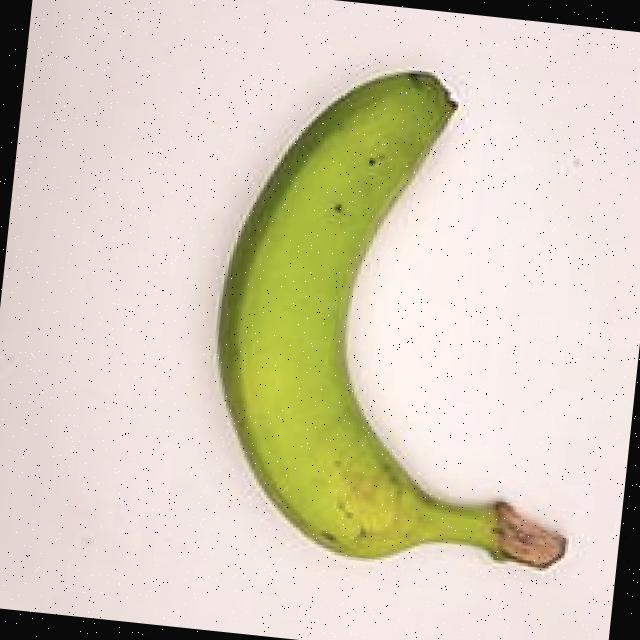Unripe: (178, 31, 636, 638)
